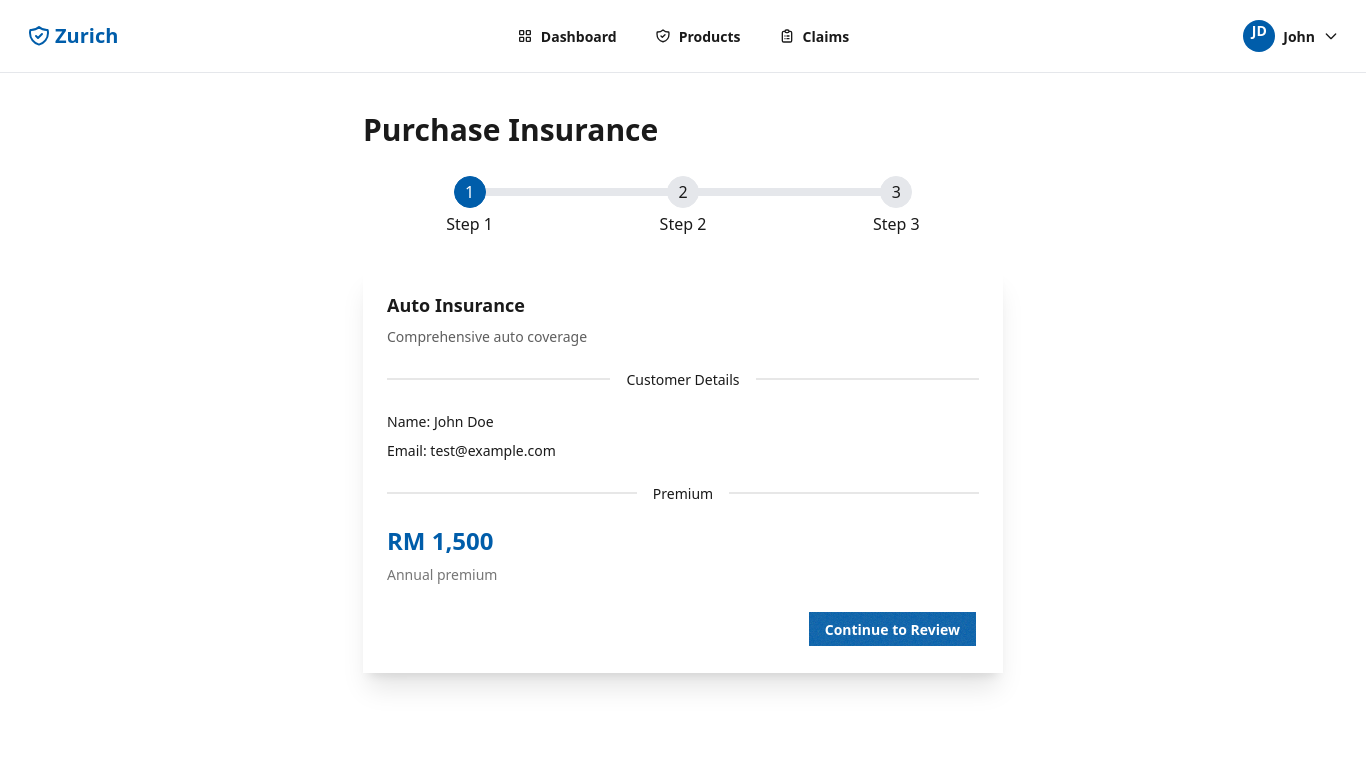
Test: Purchase Page › Step 2 (Review): after clicking Continue, shows order summary table, terms checkbox, "Confirm Purchase" and "Back" buttons
Click the button "Continue to Review".
click(892, 629)  # box 806,609 -> 979,649
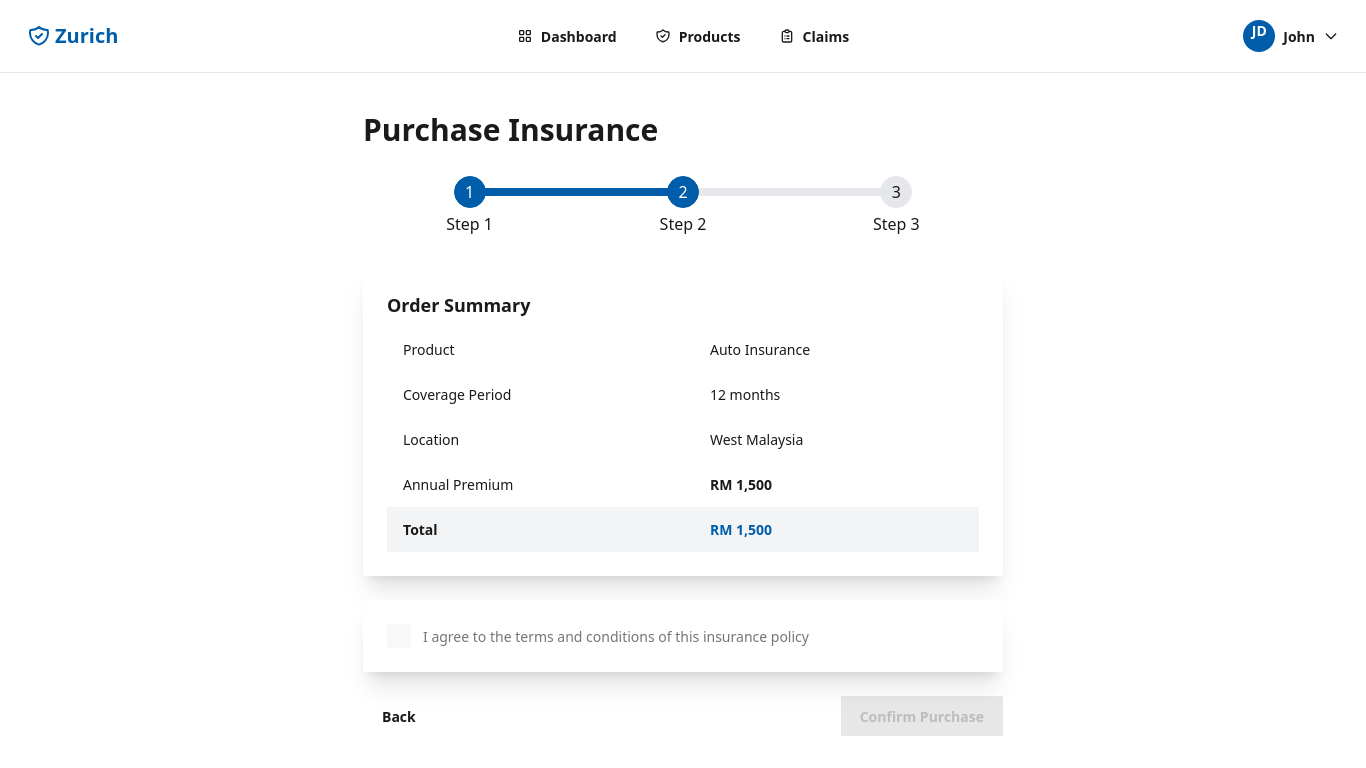
Expected: the heading "Order Summary" is shown, 387,293 -> 530,317
Expected: the button "Confirm Purchase" is shown, 841,696 -> 1003,736
Expected: the button "Back" is shown, 363,696 -> 435,736
